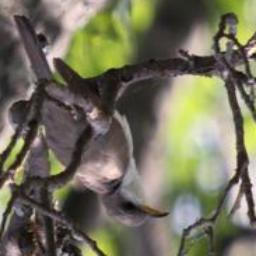Cuckoo: (14, 8, 172, 233)
